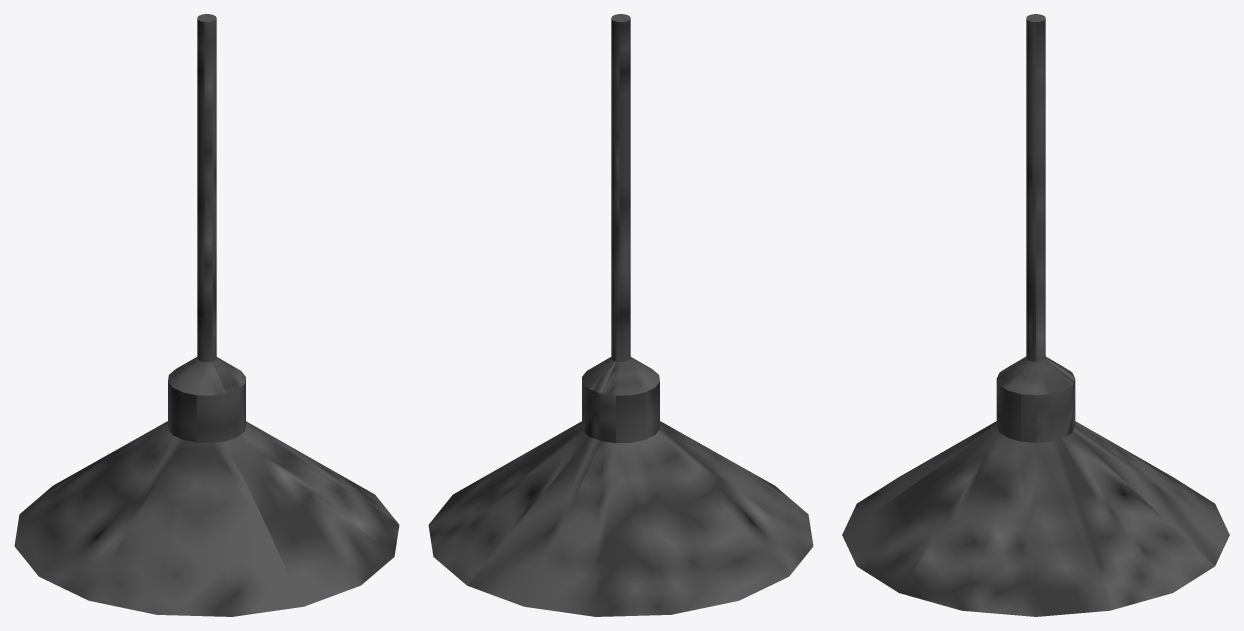
File: Lamp.fbx
The picture shows the model from 3 angles, left to right: view 1: azimuth 30°, elevation 25°; view 2: azimuth 150°, elevation 25°; view 3: azimuth 270°, elevation 25°; orthographic projection.
Parts seen in each view (by area): view 1: Cylinder.015; view 2: Cylinder.015; view 3: Cylinder.015.
Boxes of the visible parts, left/top/right/bottom form: Cylinder.015: left=14, top=14, right=399, bottom=616; Cylinder.015: left=428, top=14, right=813, bottom=616; Cylinder.015: left=842, top=14, right=1229, bottom=616.
Bounding box in the file's own units: 51.35 × 78.13 × 51.35.
